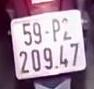0: (30, 48, 43, 73)
2: (17, 50, 30, 75), (61, 15, 73, 40)
4: (57, 44, 70, 67)
5: (21, 20, 34, 46)
7: (69, 41, 83, 67)
9: (43, 46, 54, 71), (32, 21, 43, 45)
P: (50, 17, 61, 43)
